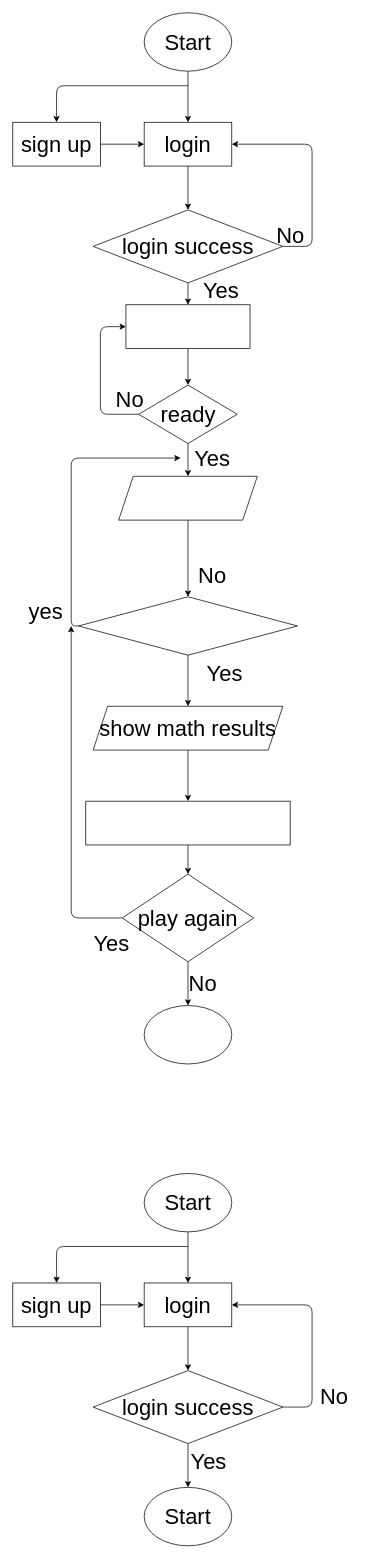
Image size: 369x1559. Some labels were removed from this diagram. The shapes that lost their labels are listed below. From the top down, each one's centre as x and y in pixels, then its label:
At point (187, 326): "main page".
At point (187, 498): "play game".
At point (187, 625): "lose or give up".
At point (187, 822): "save the match results to database".
At point (187, 1034): "End".
